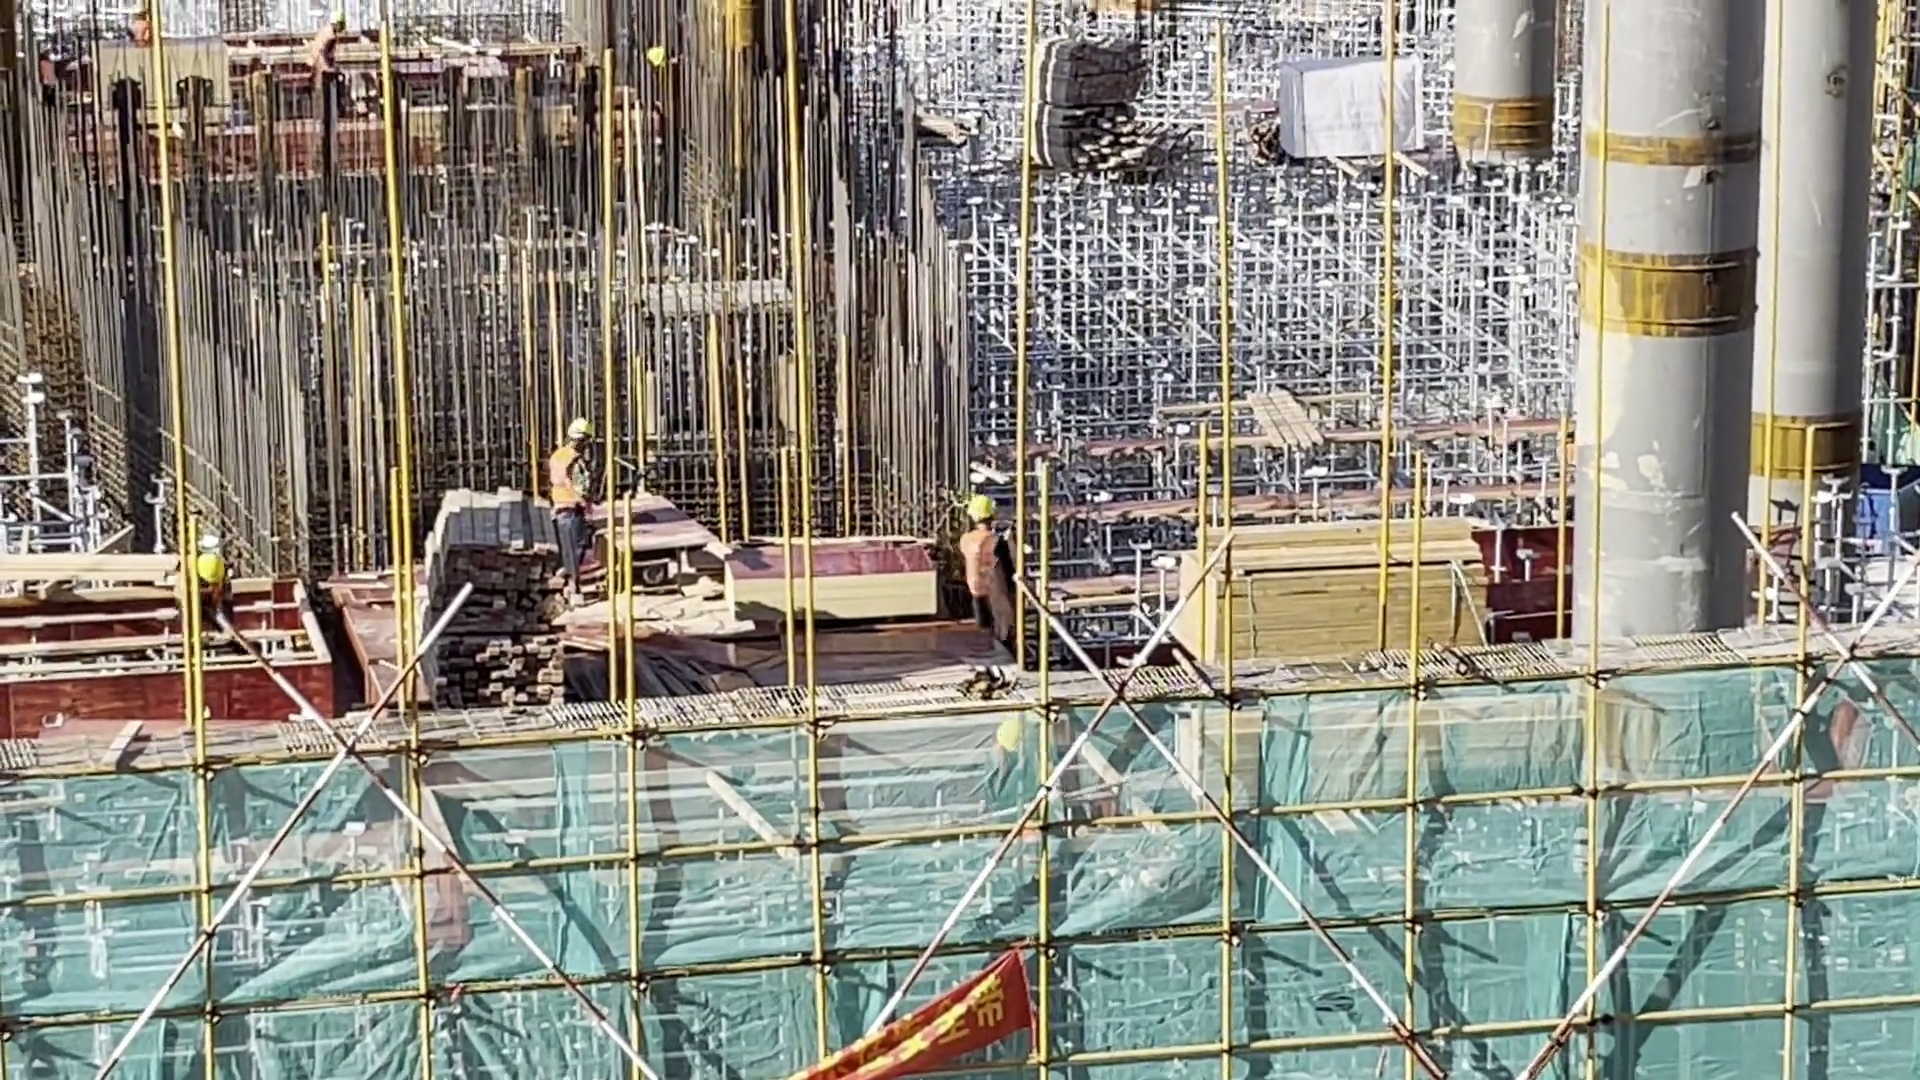helmet: (191, 545, 229, 593), (564, 406, 596, 449), (963, 489, 997, 527)
person: (951, 489, 1021, 663), (540, 415, 600, 608), (184, 549, 244, 635)
vest: (959, 519, 1003, 608), (543, 441, 588, 517)
